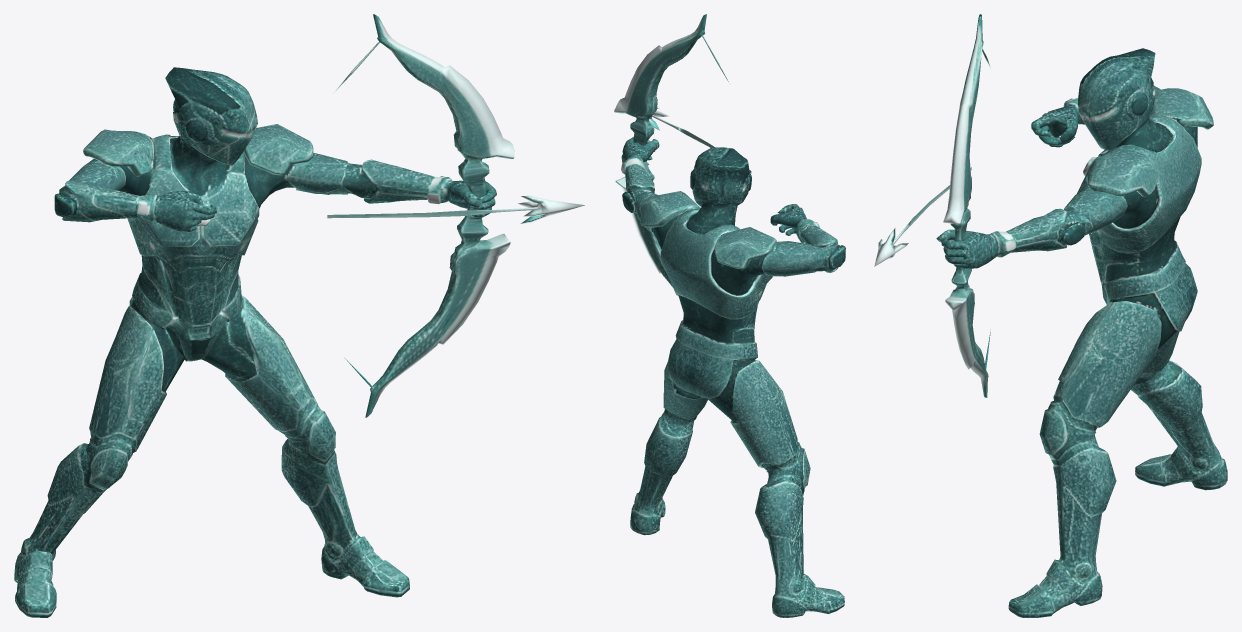
File: archer_tripo.glb
3 renders of one model, left to right at view 1: azimuth 30°, elevation 25°; view 2: azimuth 150°, elevation 25°; view 3: azimuth 270°, elevation 25°, orthographic. The views are drawn at different scales.
Parts seen in each view (by area): view 1: tripo_node_1b4edb21-63cc-4b98-9c83-1bc975324913; view 2: tripo_node_1b4edb21-63cc-4b98-9c83-1bc975324913; view 3: tripo_node_1b4edb21-63cc-4b98-9c83-1bc975324913.
Boxes of the visible parts, x1=… form: tripo_node_1b4edb21-63cc-4b98-9c83-1bc975324913: x1=14, y1=14, x2=584, y2=617; tripo_node_1b4edb21-63cc-4b98-9c83-1bc975324913: x1=614, y1=14, x2=845, y2=617; tripo_node_1b4edb21-63cc-4b98-9c83-1bc975324913: x1=874, y1=14, x2=1227, y2=617.
Bounding box in the file's own units: 0.7183 × 0.9995 × 0.5542.
Materials: 1 (1 with a texture image).
